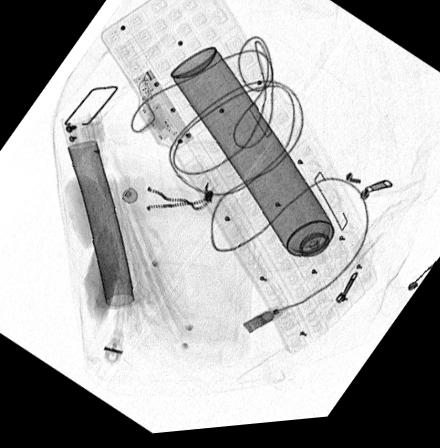Sprayer: (170, 51, 350, 291)
